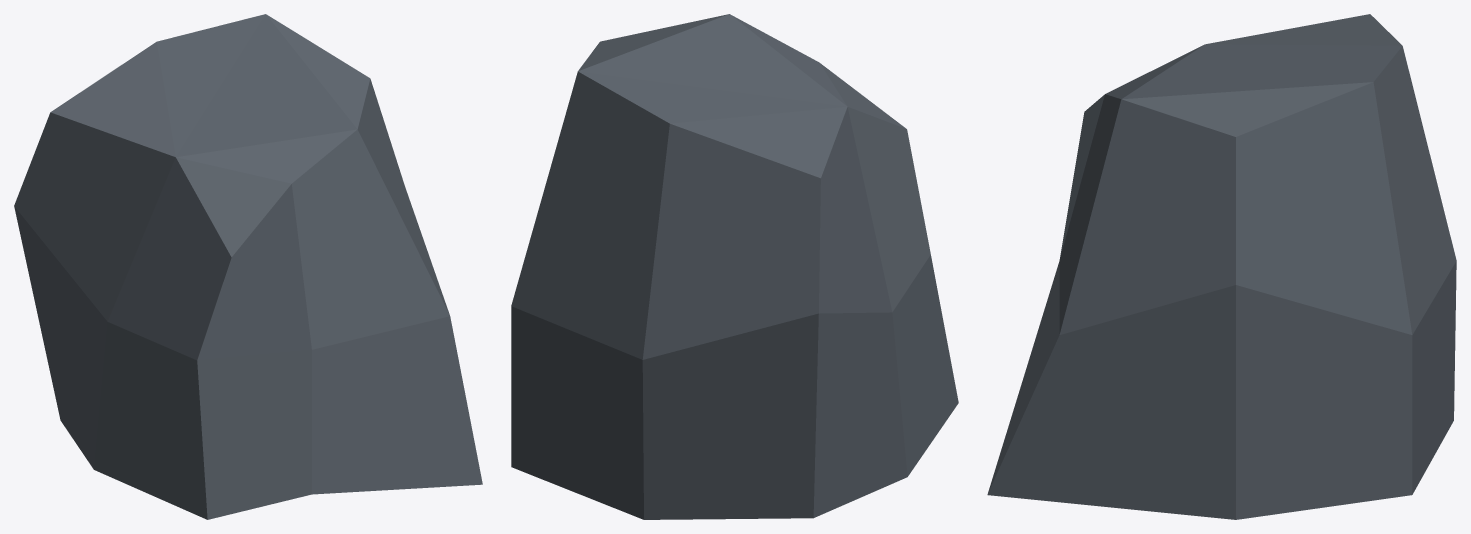
File: FlatRock-A13.fbx
The picture shows the model from 3 angles, left to right: view 1: azimuth 30°, elevation 25°; view 2: azimuth 150°, elevation 25°; view 3: azimuth 270°, elevation 25°; orthographic projection. The views are drawn at different scales.
Visible parts, largest first — view 1: FlatRock-A13; view 2: FlatRock-A13; view 3: FlatRock-A13.
Part boxes in pixels (x1,y1,x2,y2): FlatRock-A13: (14, 14, 482, 519); FlatRock-A13: (511, 14, 958, 519); FlatRock-A13: (987, 14, 1456, 519).
Size of the model in its own units: 233 by 244 by 266.
